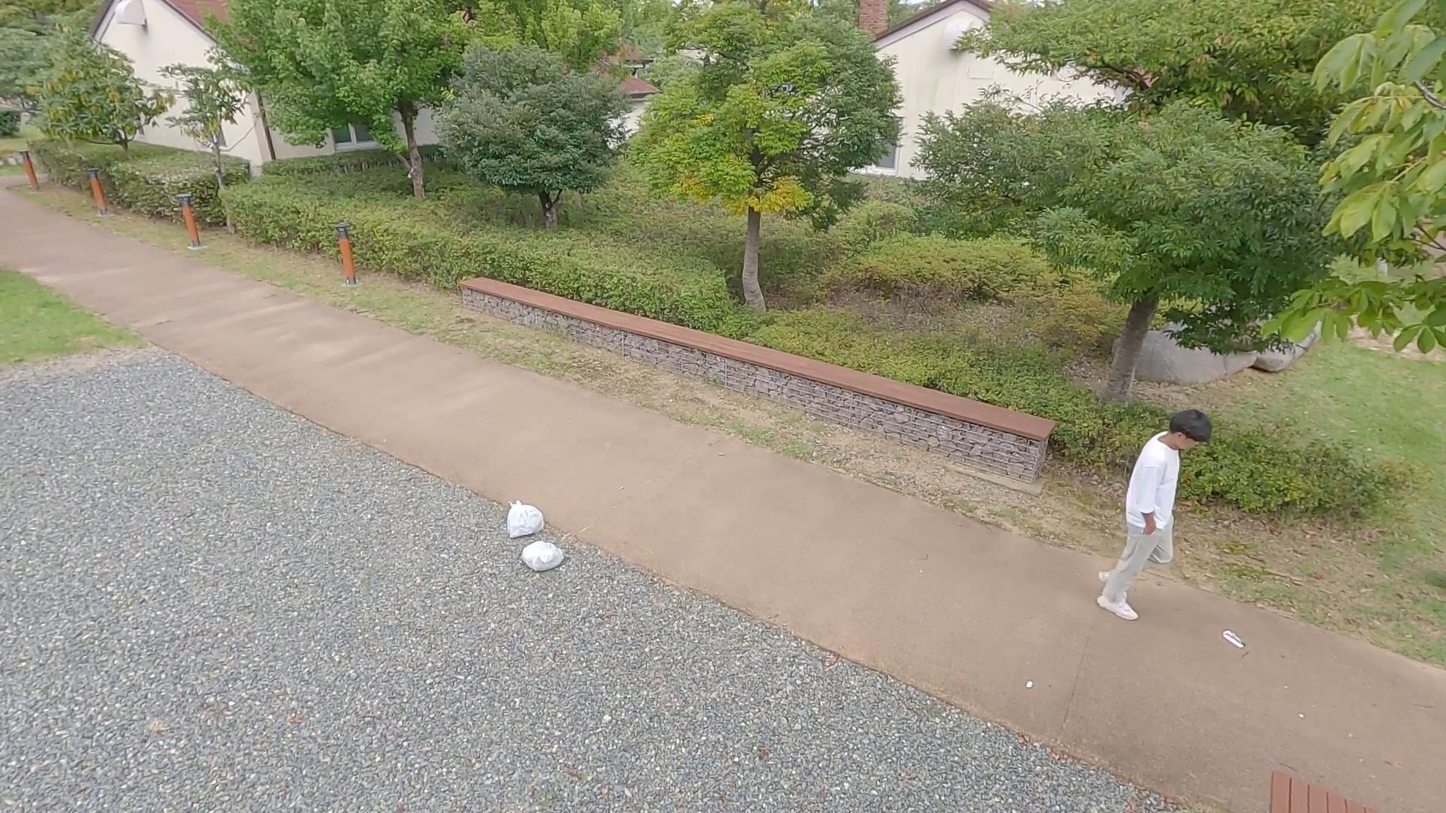person: (1096, 408, 1211, 622)
trash: (505, 499, 546, 540), (521, 539, 565, 574)
